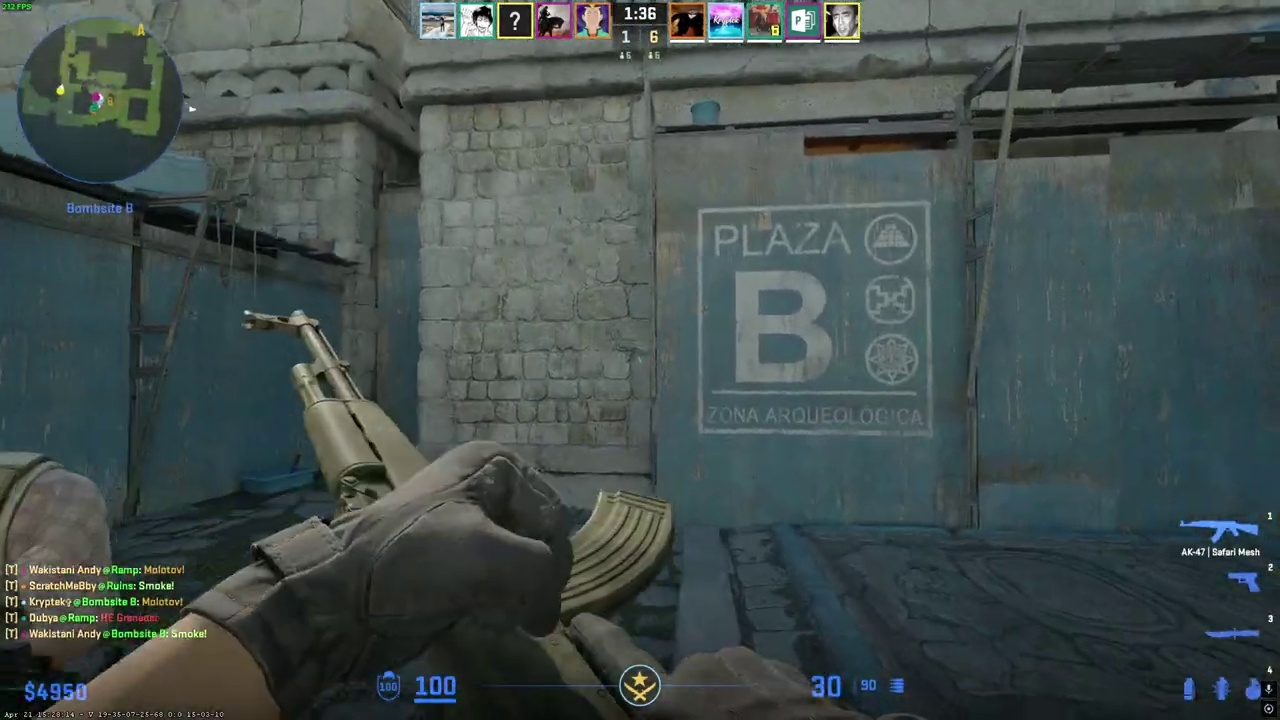Terrorist: (0, 386, 125, 720)
